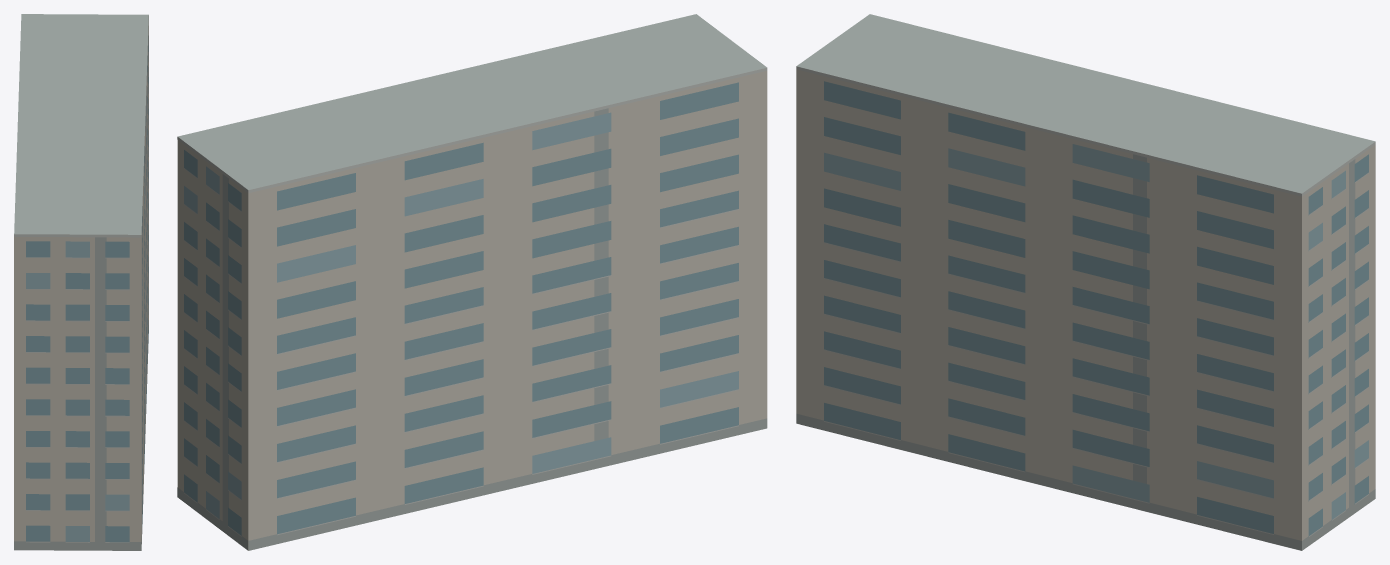
The model's file is residential-7053c8b2-79a2-42fd-b5e9-70c05f69d247.glb.
3 renders of one model, left to right at view 1: azimuth 30°, elevation 25°; view 2: azimuth 150°, elevation 25°; view 3: azimuth 270°, elevation 25°, orthographic. The views are drawn at different scales.
Visible parts, largest first — view 1: residential-7053c8b2-79a2-42fd-b5e9-70c05f69d247.tmp; view 2: residential-7053c8b2-79a2-42fd-b5e9-70c05f69d247.tmp; view 3: residential-7053c8b2-79a2-42fd-b5e9-70c05f69d247.tmp.
Part boxes in pixels (x1=…): residential-7053c8b2-79a2-42fd-b5e9-70c05f69d247.tmp: x1=14, y1=14, x2=148, y2=550; residential-7053c8b2-79a2-42fd-b5e9-70c05f69d247.tmp: x1=177, y1=14, x2=767, y2=550; residential-7053c8b2-79a2-42fd-b5e9-70c05f69d247.tmp: x1=796, y1=14, x2=1375, y2=550.
Bounding box in the file's own units: 31.3 × 29 × 42.65.
